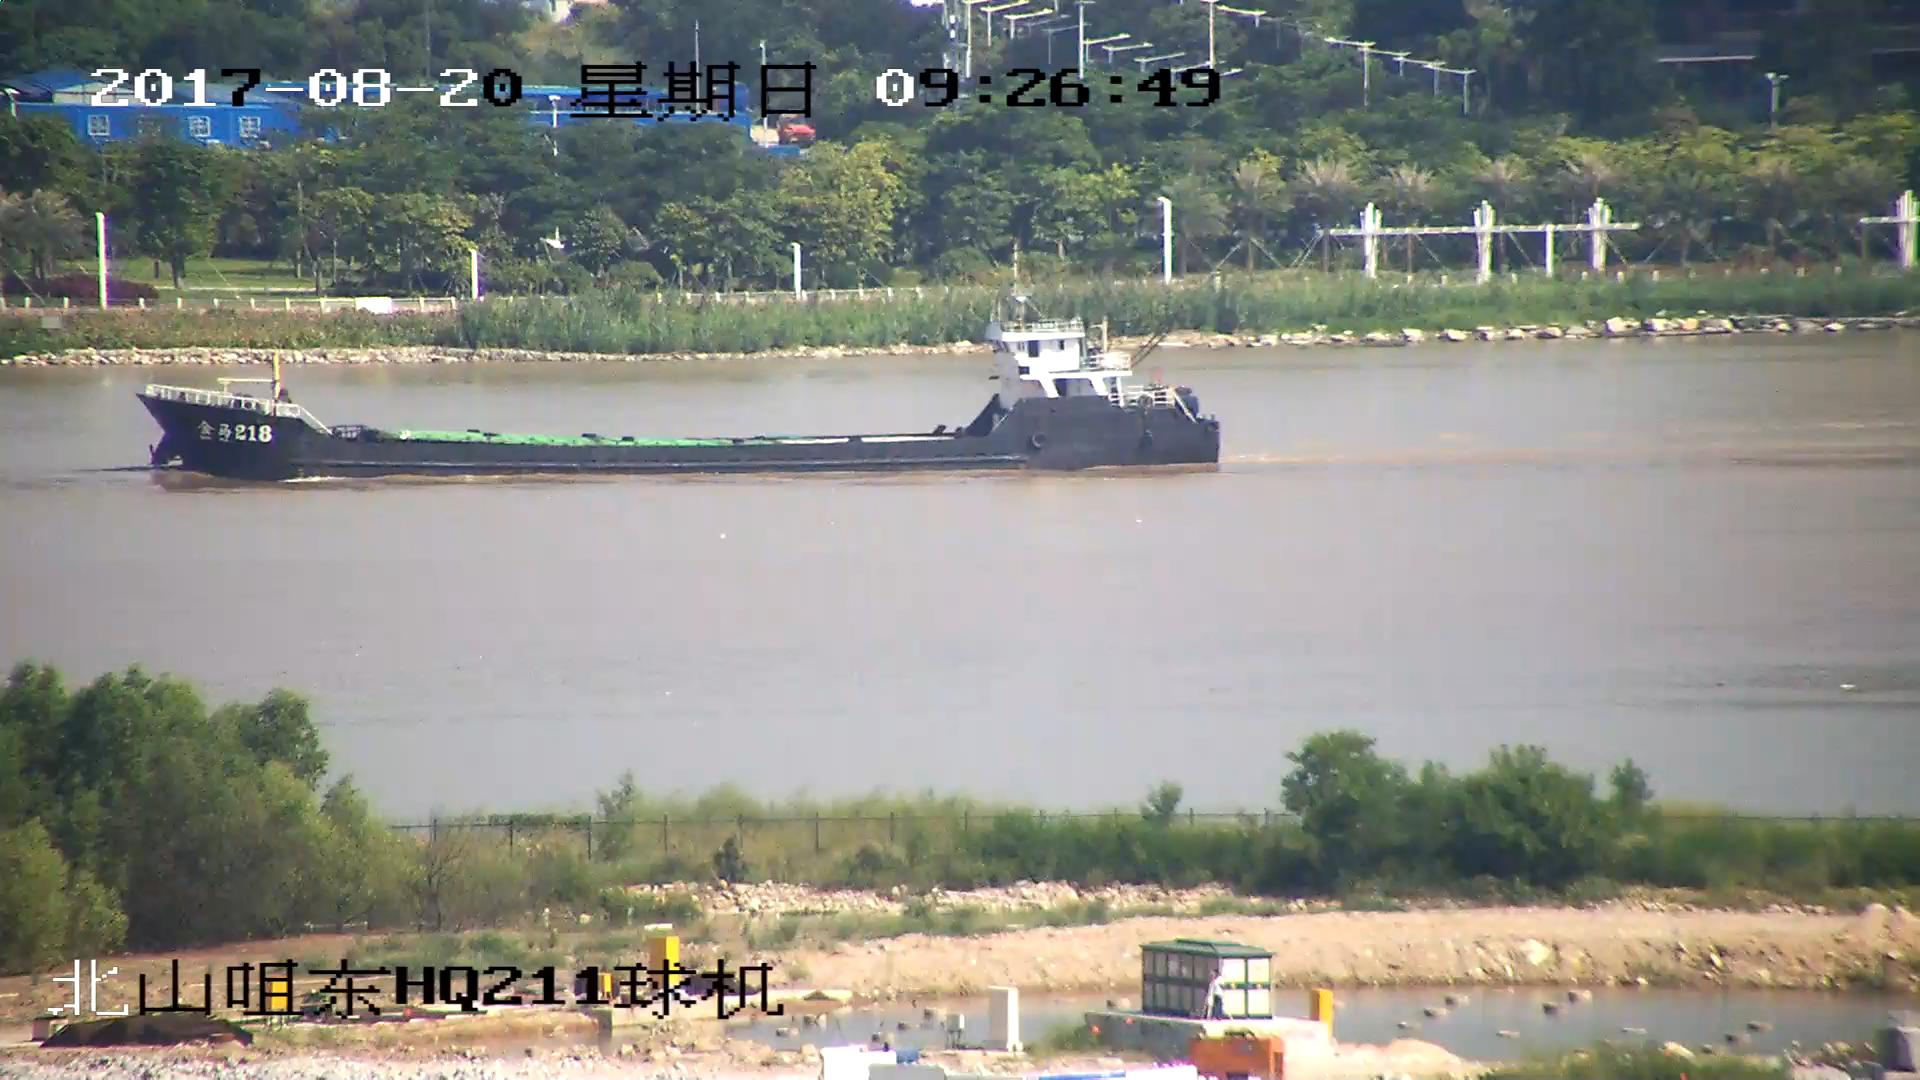general cargo ship: (143, 310, 1219, 472)
